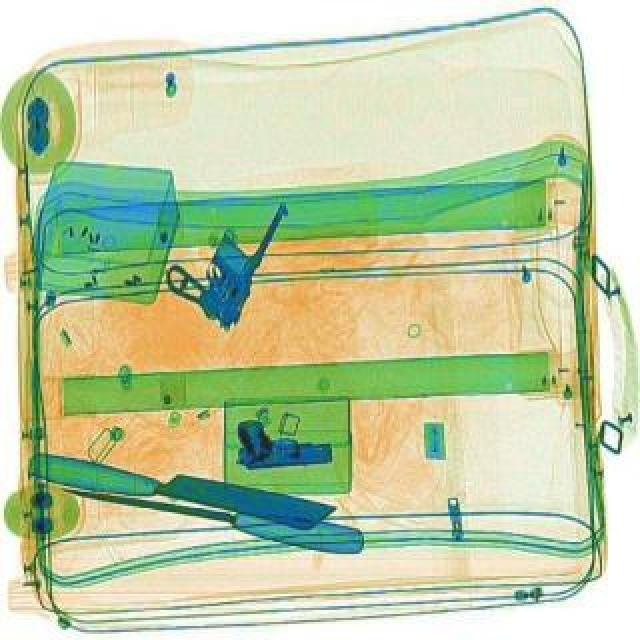gun: (152, 170, 294, 330), (232, 410, 332, 470)
knife: (22, 446, 338, 530), (56, 470, 364, 554)
